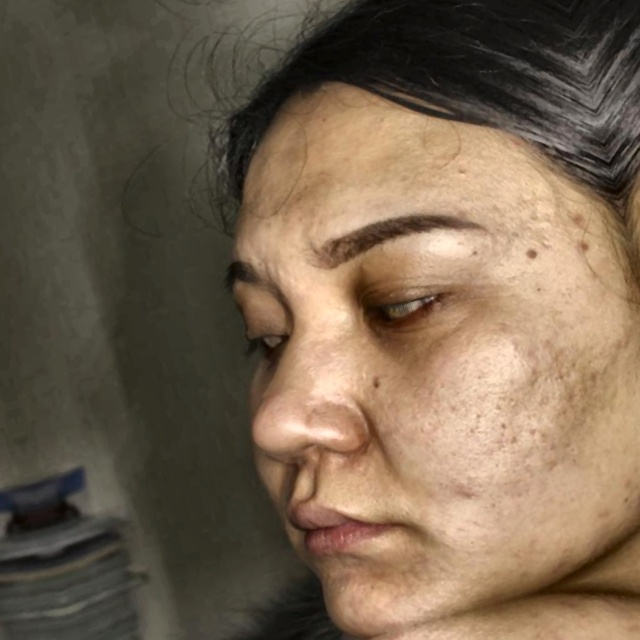comedone: (564, 202, 596, 230), (453, 480, 480, 504)
